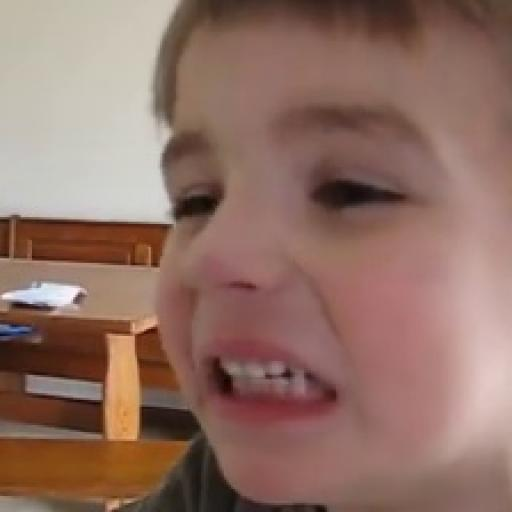Autism: (160, 23, 512, 510)
